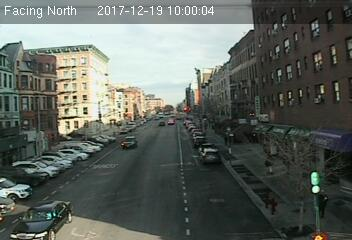car: (10, 200, 74, 240), (200, 149, 221, 165), (119, 136, 139, 150)
